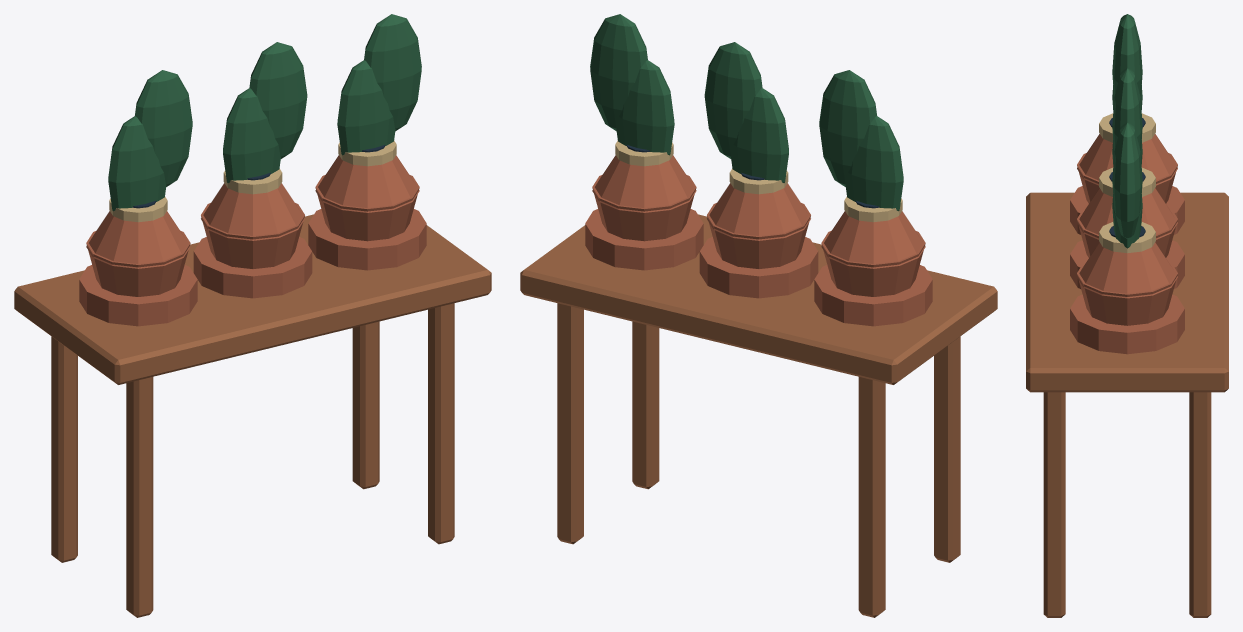
The model's file is seedlings.glb.
3 renders of one model, left to right at view 1: azimuth 30°, elevation 25°; view 2: azimuth 150°, elevation 25°; view 3: azimuth 270°, elevation 25°, orthographic. The views are drawn at different scales.
Visible parts, largest first — view 1: Base, Target2, Target1, Target0, Remnant1, Remnant2, Remnant0; view 2: Base, Target2, Target1, Target0, Remnant1, Remnant2, Remnant0; view 3: Base, Target2, Target0, Target1, Remnant2, Remnant1, Remnant0.
Part boxes in pixels (left/top/right/bottom): Base: left=14, top=214, right=491, bottom=617; Target2: left=315, top=14, right=421, bottom=241; Target1: left=201, top=42, right=307, bottom=268; Target0: left=86, top=70, right=192, bottom=296; Remnant1: left=193, top=237, right=312, bottom=298; Remnant2: left=308, top=209, right=426, bottom=270; Remnant0: left=79, top=265, right=197, bottom=326; Base: left=520, top=214, right=997, bottom=617; Target2: left=590, top=14, right=696, bottom=241; Target1: left=704, top=42, right=810, bottom=268; Target0: left=819, top=70, right=925, bottom=296; Remnant1: left=699, top=237, right=818, bottom=298; Remnant2: left=585, top=209, right=703, bottom=270; Remnant0: left=814, top=265, right=932, bottom=326; Base: left=1026, top=192, right=1228, bottom=617; Target2: left=1077, top=122, right=1177, bottom=325; Target0: left=1077, top=14, right=1177, bottom=203; Target1: left=1077, top=68, right=1177, bottom=257; Remnant2: left=1070, top=294, right=1184, bottom=354; Remnant1: left=1070, top=240, right=1184, bottom=288; Remnant0: left=1070, top=186, right=1184, bottom=234.
Bounding box in the file's own units: 1.25 × 1.59 × 0.6.
